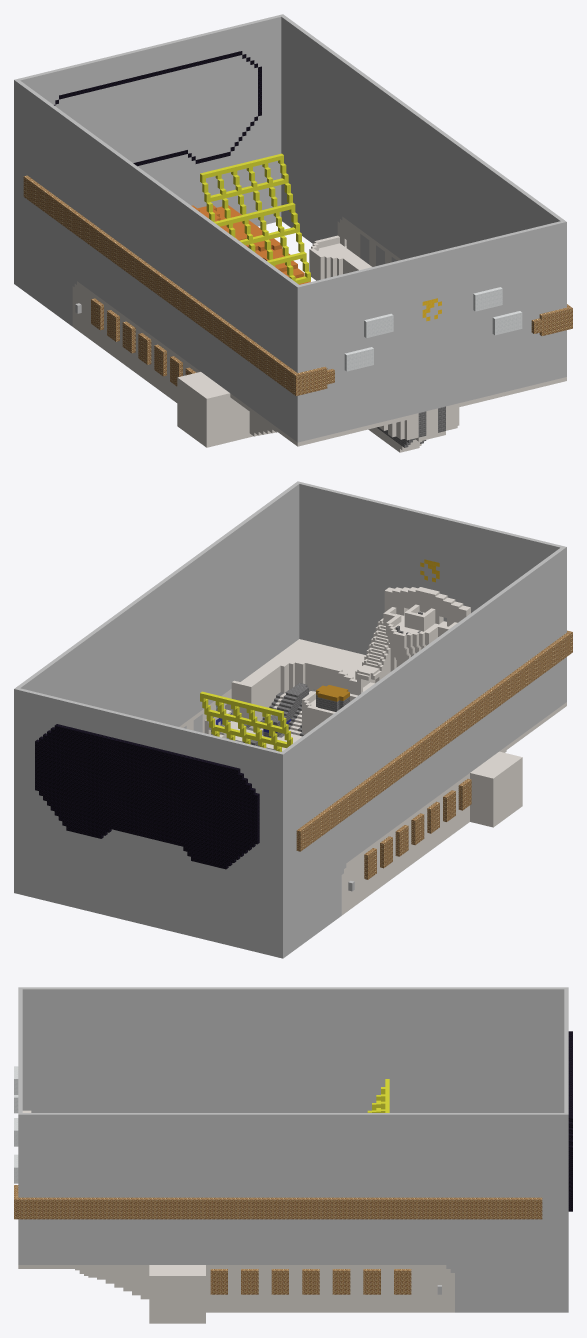
File: minecraft.obj
3 renders of one model, top to bottom at view 1: azimuth 30°, elevation 25°; view 2: azimuth 150°, elevation 25°; view 3: azimuth 270°, elevation 25°, orthographic. The views are drawn at different scales.
Bounding box in the file's own units: 81 × 52 × 128.
